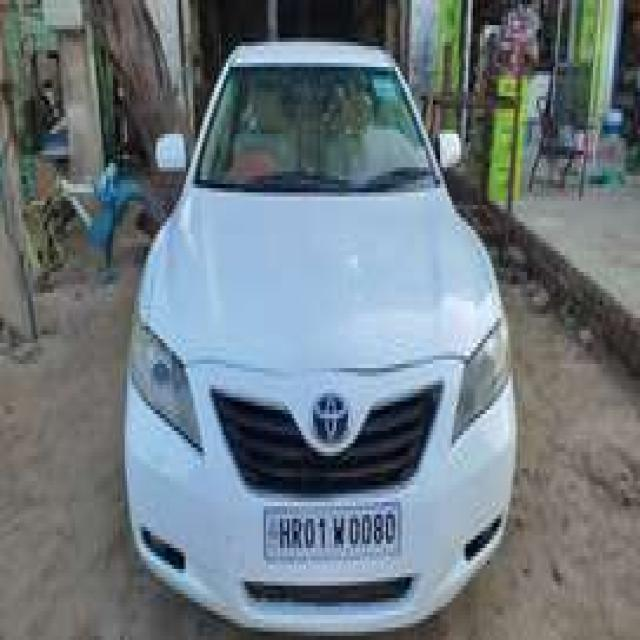licenseplate: (260, 501, 404, 564)
